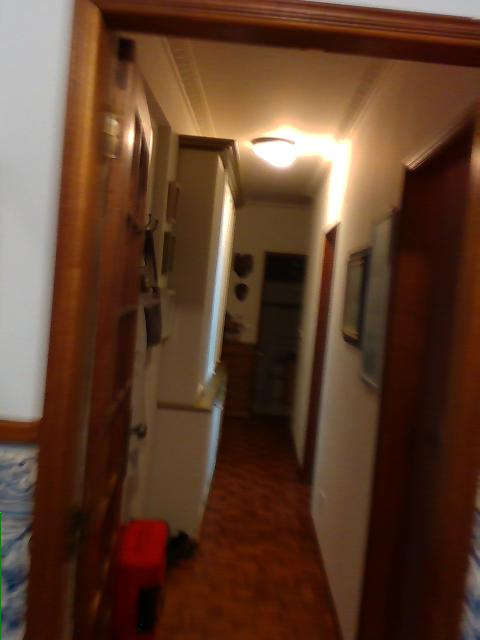door: (66, 34, 153, 640)
